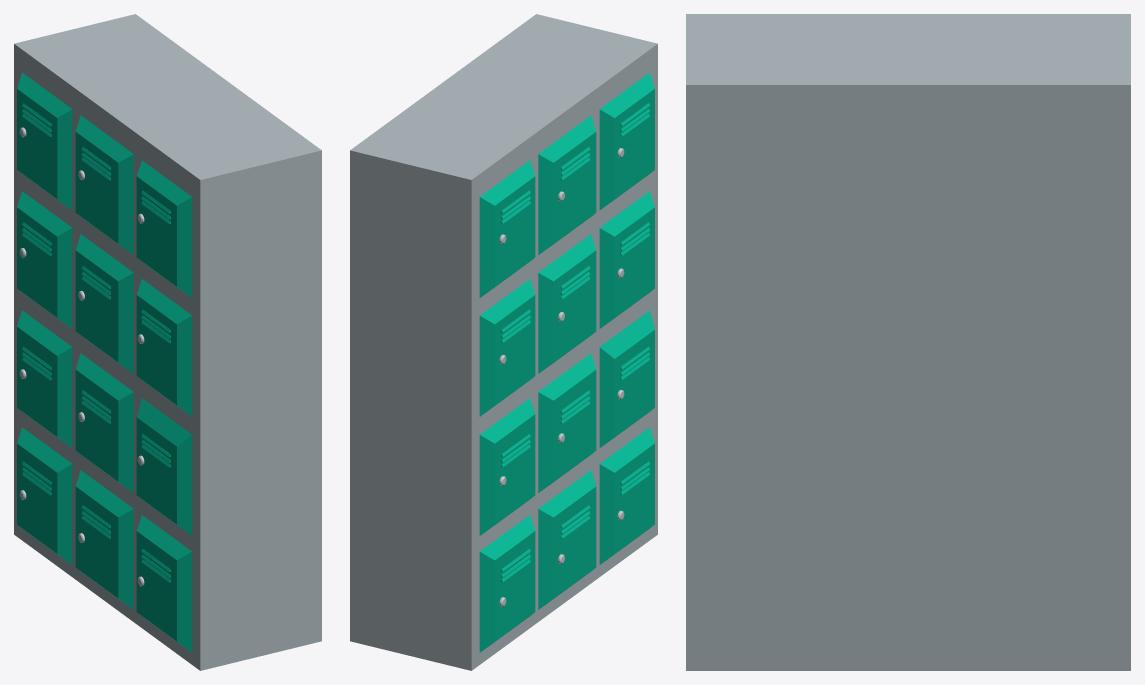
File: Locker 12 doors.fbx
3 renders of one model, left to right at view 1: azimuth 30°, elevation 25°; view 2: azimuth 150°, elevation 25°; view 3: azimuth 270°, elevation 25°, orthographic. The views are drawn at different scales.
Parts seen in each view (by area): view 1: polySurface13, polySurface20, polySurface23, polySurface17, polySurface14, polySurface22, polySurface24, polySurface16, polySurface19, polySurface18, polySurface21, polySurface15 (+1 smaller); view 2: polySurface13, polySurface20, polySurface23, polySurface17, polySurface14, polySurface18, polySurface21, polySurface15, polySurface25, polySurface22, polySurface24, polySurface16 (+1 smaller); view 3: polySurface13.
Boxes of the visible parts, <box> form: polySurface13: <box>14,14,321,670</box>; polySurface20: <box>75,234,133,373</box>; polySurface23: <box>75,115,133,254</box>; polySurface17: <box>75,353,133,492</box>; polySurface14: <box>75,470,133,609</box>; polySurface22: <box>136,279,192,416</box>; polySurface24: <box>136,160,192,297</box>; polySurface16: <box>136,515,192,652</box>; polySurface19: <box>136,398,192,535</box>; polySurface18: <box>17,191,72,328</box>; polySurface21: <box>17,72,72,209</box>; polySurface15: <box>17,310,72,447</box>; polySurface13: <box>350,14,657,670</box>; polySurface20: <box>538,234,596,373</box>; polySurface23: <box>538,115,596,254</box>; polySurface17: <box>538,353,596,492</box>; polySurface14: <box>538,470,596,609</box>; polySurface18: <box>479,279,535,416</box>; polySurface21: <box>479,160,535,297</box>; polySurface15: <box>479,398,535,535</box>; polySurface25: <box>479,515,535,652</box>; polySurface22: <box>599,191,654,328</box>; polySurface24: <box>599,72,654,209</box>; polySurface16: <box>599,427,654,564</box>; polySurface13: <box>686,14,1130,670</box>.
Size of the model in its own units: 1.1 by 3.86 by 2.65.
1 material, 1 textured.
